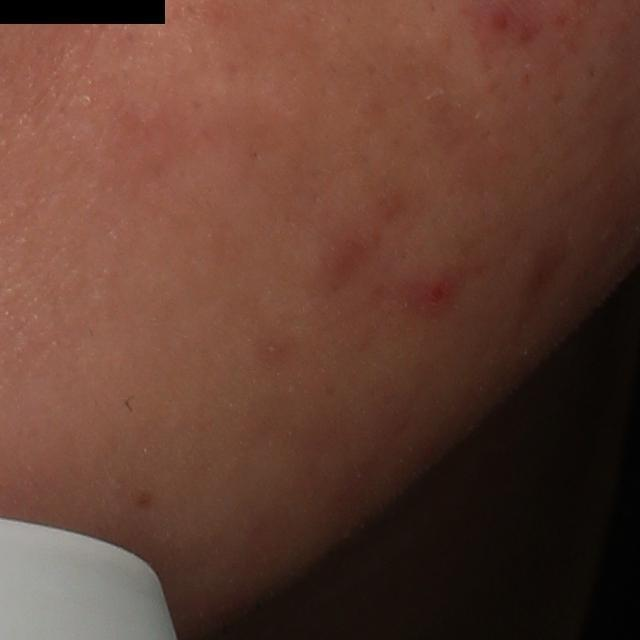papule: (410, 274, 454, 315)
